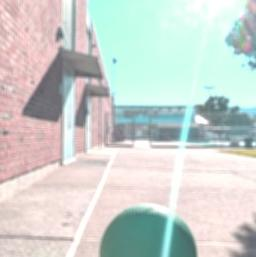algae: (96, 201, 198, 257)
